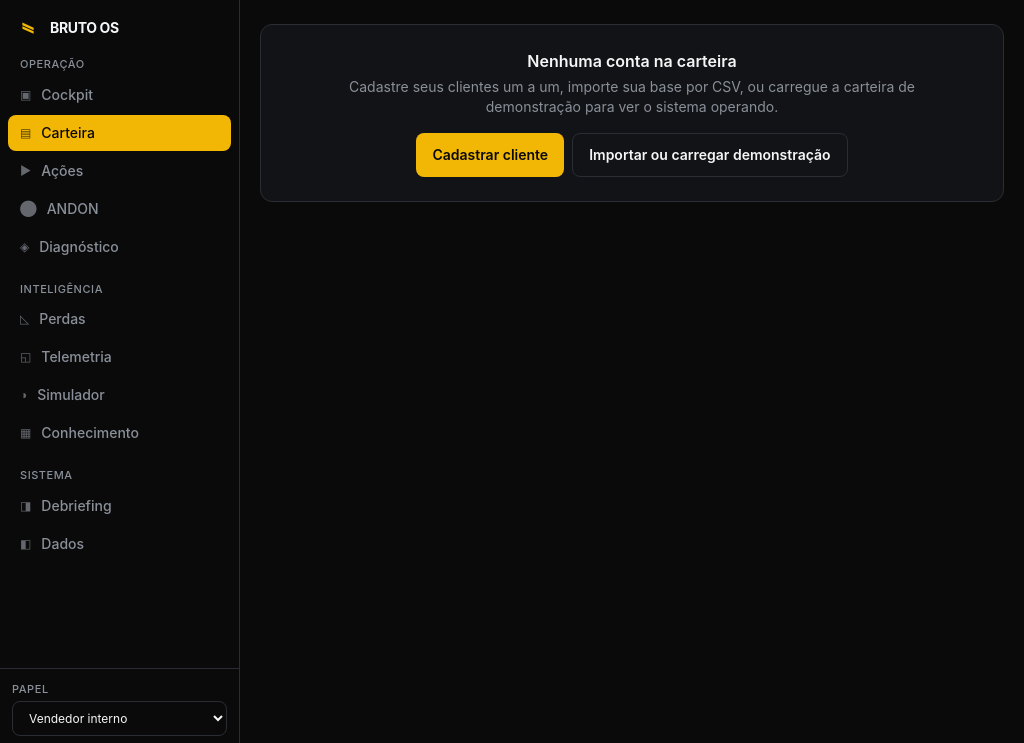
Test: registro de compra alimenta o motor › as famílias existem mesmo sem carregar a demonstração
The image size is (1024, 743).
Expected: the text "Nenhuma conta na carteira" is shown, [527,51,737,71]
Click the button "Cadastrar cliente" at [490, 155], box [416,133,564,177]
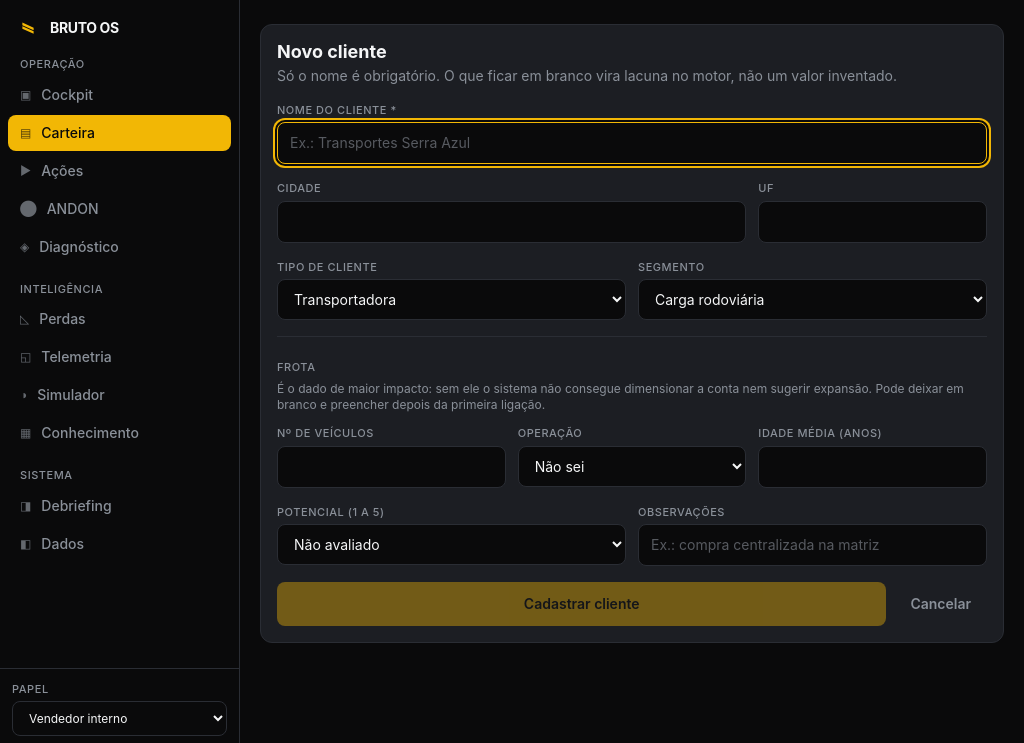
Result: the heading "Novo cliente" is shown at [277,41,387,62]
Type "Frota Alfa" into the field labelled "Nome do cliente *" at [632, 143], box [277,122,987,164]
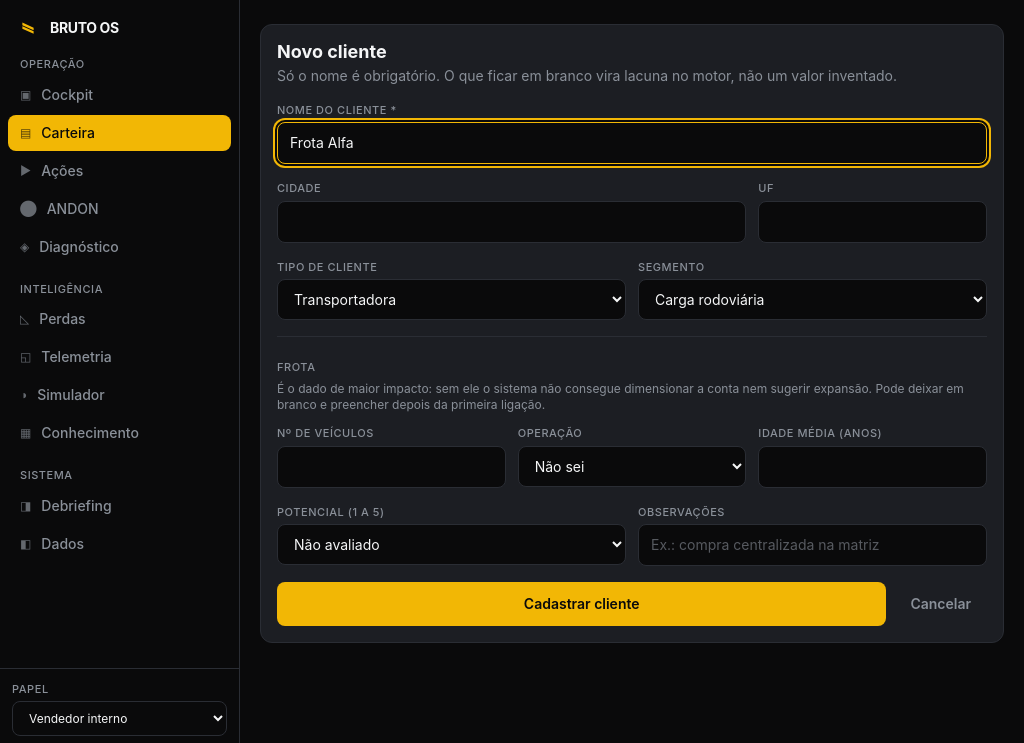
Type "20" into the number field labelled "Nº de veículos" at [391, 466], box [277,446,506,488]
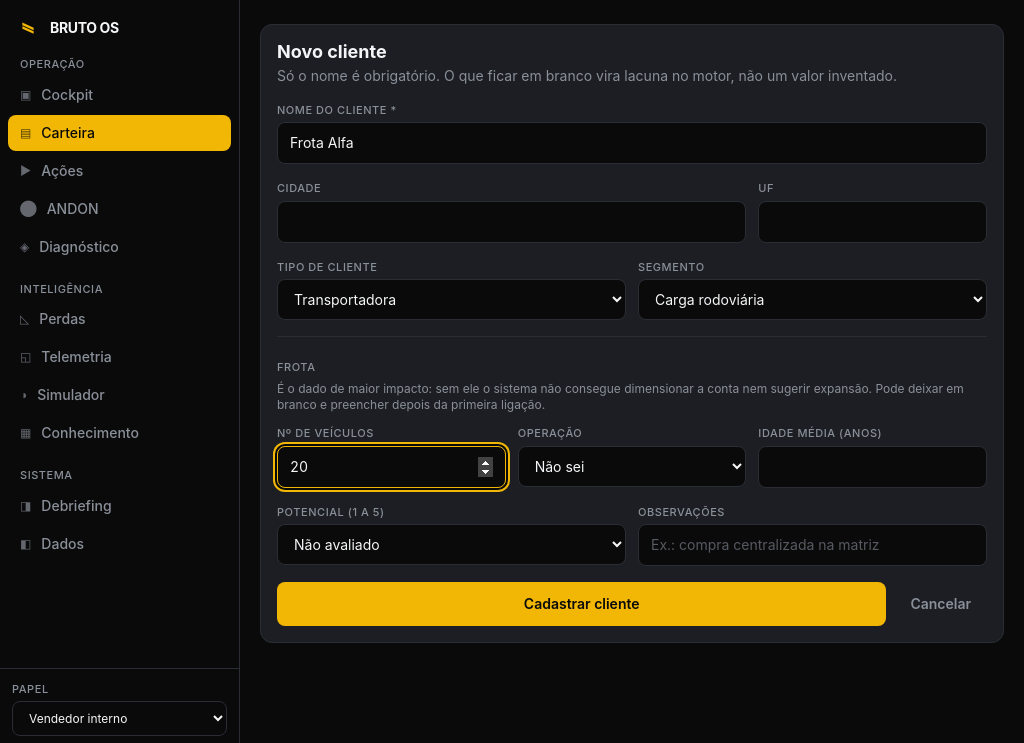
Click the button "Cadastrar cliente" at [582, 604], box [277,582,886,626]
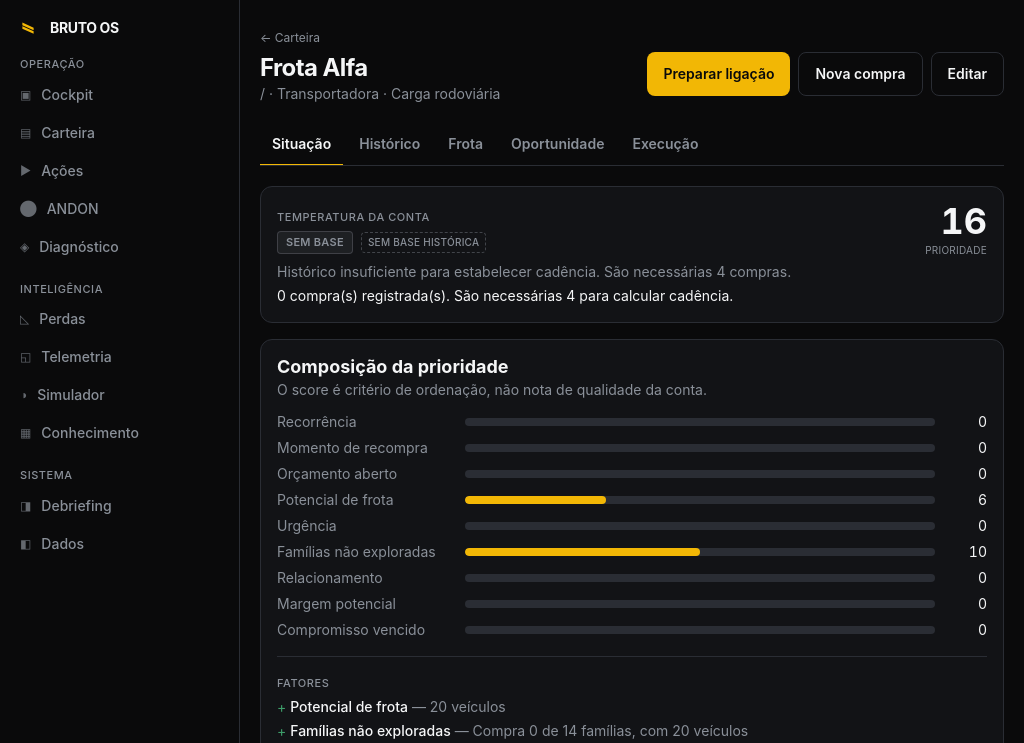
Result: the heading "Frota Alfa" is shown at [260,53,368,82]
Click the button "Nova compra" at [861, 74], box [798,52,923,96]
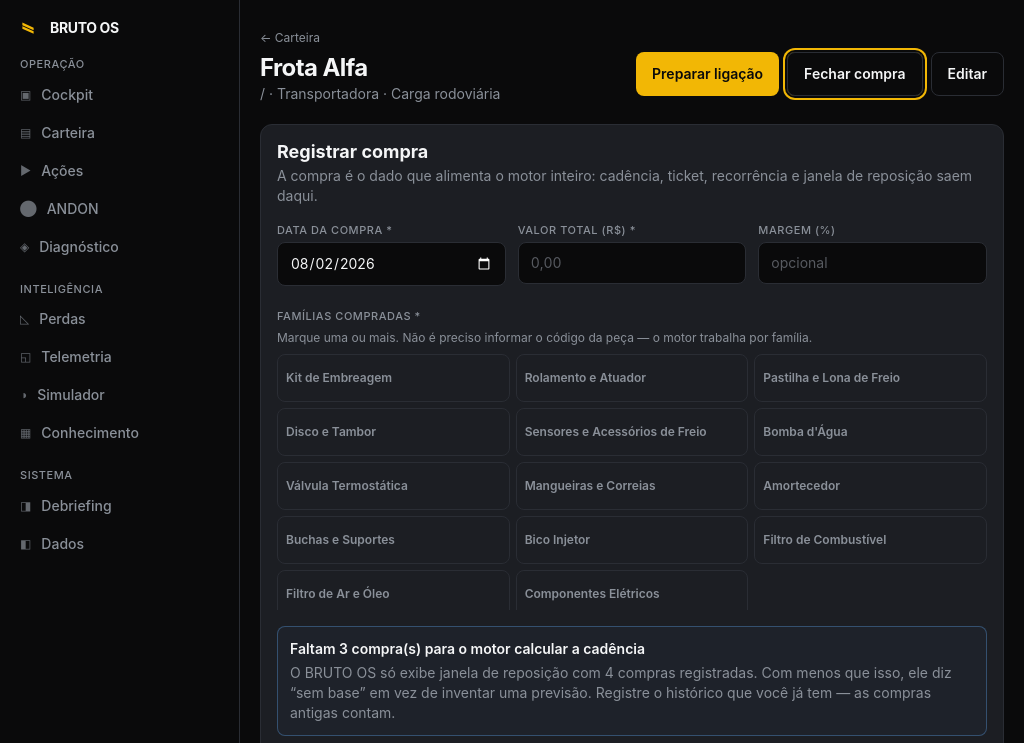
Result: the button "Kit de Embreagem" is shown at [277,354,510,402]
Result: the button "Pastilha e Lona de Freio" is shown at [754,354,987,402]
